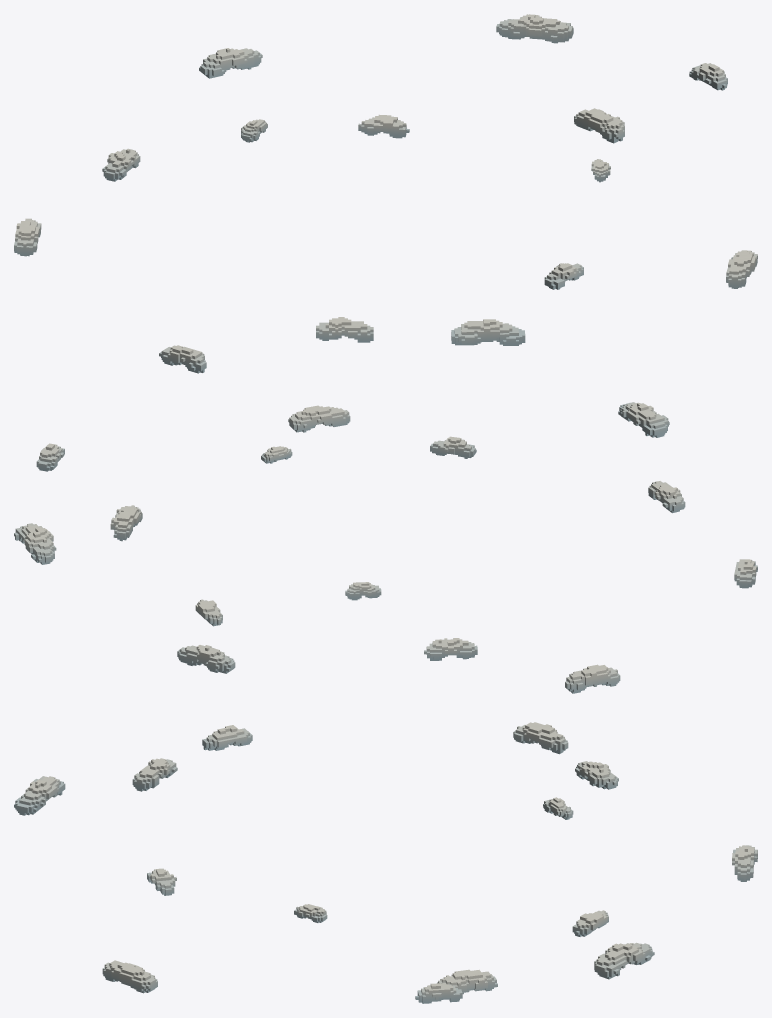
The model's file is blender-voxel-clouds.glb.
3 renders of one model, top to bottom at view 1: azimuth 30°, elevation 25°; view 2: azimuth 150°, elevation 25°; view 3: azimuth 270°, elevation 25°, orthographic. The views are drawn at different scales.
Visible parts, largest first — view 1: SG_Cloud_09, SG_Cloud_04, SG_Cloud_11, SG_Cloud_08, SG_Cloud_03, SG_Cloud_06, SG_Cloud_02, SG_Cloud_10, SG_Cloud_13, SG_Cloud_01, SG_Cloud_14, SG_Cloud_05; view 2: SG_Cloud_06, SG_Cloud_09, SG_Cloud_11, SG_Cloud_04, SG_Cloud_01, SG_Cloud_13, SG_Cloud_08, SG_Cloud_03, SG_Cloud_05, SG_Cloud_02, SG_Cloud_14, SG_Cloud_12 (+1 smaller); view 3: SG_Cloud_09, SG_Cloud_04, SG_Cloud_06, SG_Cloud_01, SG_Cloud_08, SG_Cloud_03, SG_Cloud_02, SG_Cloud_13, SG_Cloud_11, SG_Cloud_14, SG_Cloud_10, SG_Cloud_05.
Part boxes in pixels (box(x1,y1,x2,y2)): SG_Cloud_09: box(496, 14, 573, 43); SG_Cloud_04: box(451, 319, 525, 345); SG_Cloud_11: box(199, 48, 262, 78); SG_Cloud_08: box(574, 108, 624, 143); SG_Cloud_03: box(316, 317, 373, 342); SG_Cloud_06: box(726, 250, 757, 288); SG_Cloud_02: box(159, 345, 206, 373); SG_Cloud_10: box(358, 114, 409, 138); SG_Cloud_13: box(102, 148, 140, 181); SG_Cloud_01: box(14, 218, 41, 256); SG_Cloud_14: box(689, 63, 727, 90); SG_Cloud_05: box(544, 263, 583, 289); SG_Cloud_06: box(288, 405, 350, 432); SG_Cloud_09: box(14, 523, 56, 564); SG_Cloud_11: box(177, 645, 235, 673); SG_Cloud_04: box(618, 402, 669, 437); SG_Cloud_01: box(565, 664, 620, 693); SG_Cloud_13: box(424, 638, 477, 660); SG_Cloud_08: box(110, 505, 142, 541); SG_Cloud_03: box(648, 481, 685, 513); SG_Cloud_05: box(430, 436, 476, 458); SG_Cloud_02: box(734, 559, 757, 588); SG_Cloud_14: box(36, 443, 64, 471); SG_Cloud_12: box(345, 582, 381, 600); SG_Cloud_09: box(594, 942, 654, 979); SG_Cloud_04: box(14, 776, 65, 815); SG_Cloud_06: box(102, 960, 157, 993); SG_Cloud_01: box(513, 722, 568, 754); SG_Cloud_08: box(437, 969, 497, 994); SG_Cloud_03: box(132, 758, 177, 791); SG_Cloud_02: box(202, 725, 252, 750); SG_Cloud_13: box(575, 761, 618, 789); SG_Cloud_11: box(732, 845, 757, 881); SG_Cloud_14: box(415, 983, 462, 1003); SG_Cloud_10: box(572, 910, 608, 936); SG_Cloud_05: box(147, 868, 176, 895).
Size of the model in its own units: 718 by 68 by 717.
